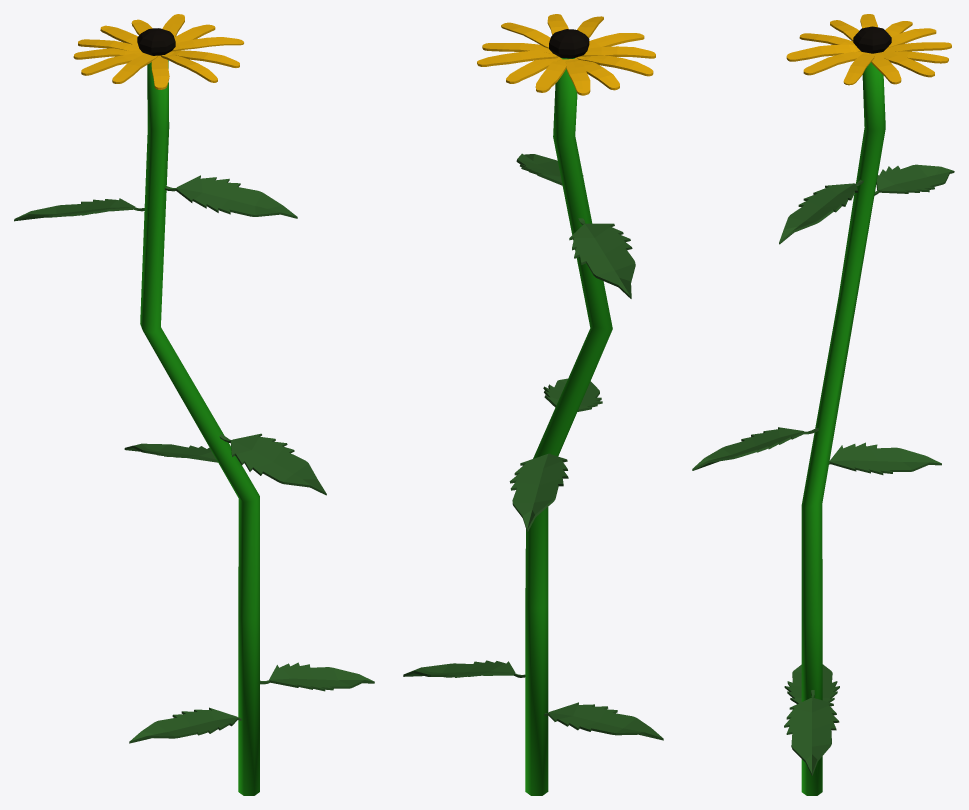
Rendered from Black Eyed Susan Complete Extruded lighter Smootherd.fbx.
3 renders of one model, left to right at view 1: azimuth 30°, elevation 25°; view 2: azimuth 150°, elevation 25°; view 3: azimuth 270°, elevation 25°, orthographic. The views are drawn at different scales.
Visible parts, largest first — view 1: Cylinder, Plane.016, Plane.018, Plane.012, Plane.015, Plane.017, Plane.013, Sphere; view 2: Cylinder, Plane.017, Plane.013, Plane.012, Plane.015, Sphere, Plane.018, Plane.016, Plane.010, Plane.011, Plane.004, Plane.006 (+6 smaller); view 3: Cylinder, Plane.015, Plane.013, Plane.018, Plane.017, Plane.016, Plane.012, Sphere, Plane.003, Plane.001, Plane.010, Plane.007 (+3 smaller).
Part boxes in pixels (box(x1,y1,x2,y2)): Cylinder: box(140, 60, 259, 795); Plane.016: box(219, 433, 326, 495); Plane.018: box(164, 175, 297, 218); Plane.012: box(129, 707, 241, 743); Plane.015: box(269, 662, 374, 691); Plane.017: box(14, 198, 144, 221); Plane.013: box(124, 443, 217, 462); Sphere: box(137, 28, 175, 55); Cylinder: box(525, 58, 612, 795); Plane.017: box(569, 218, 635, 298); Plane.013: box(509, 453, 568, 531); Plane.012: box(544, 702, 663, 740); Plane.015: box(403, 660, 515, 677); Sphere: box(549, 29, 589, 58); Plane.018: box(516, 153, 583, 185); Plane.016: box(543, 378, 602, 411); Plane.010: box(477, 50, 558, 66); Plane.011: box(577, 55, 653, 76); Plane.004: box(576, 46, 655, 58); Plane.006: box(565, 59, 590, 95); Cylinder: box(801, 62, 885, 795); Plane.015: box(784, 697, 839, 775); Plane.013: box(829, 442, 941, 474); Plane.018: box(779, 179, 863, 244); Plane.017: box(874, 164, 954, 195); Plane.016: box(692, 427, 818, 470); Plane.012: box(784, 664, 839, 703); Sphere: box(853, 26, 891, 53); Plane.003: box(786, 44, 860, 61); Plane.001: box(803, 51, 864, 75); Plane.010: box(879, 51, 934, 77); Plane.007: box(884, 42, 951, 51).
Size of the model in its own units: 340 by 851 by 276.
